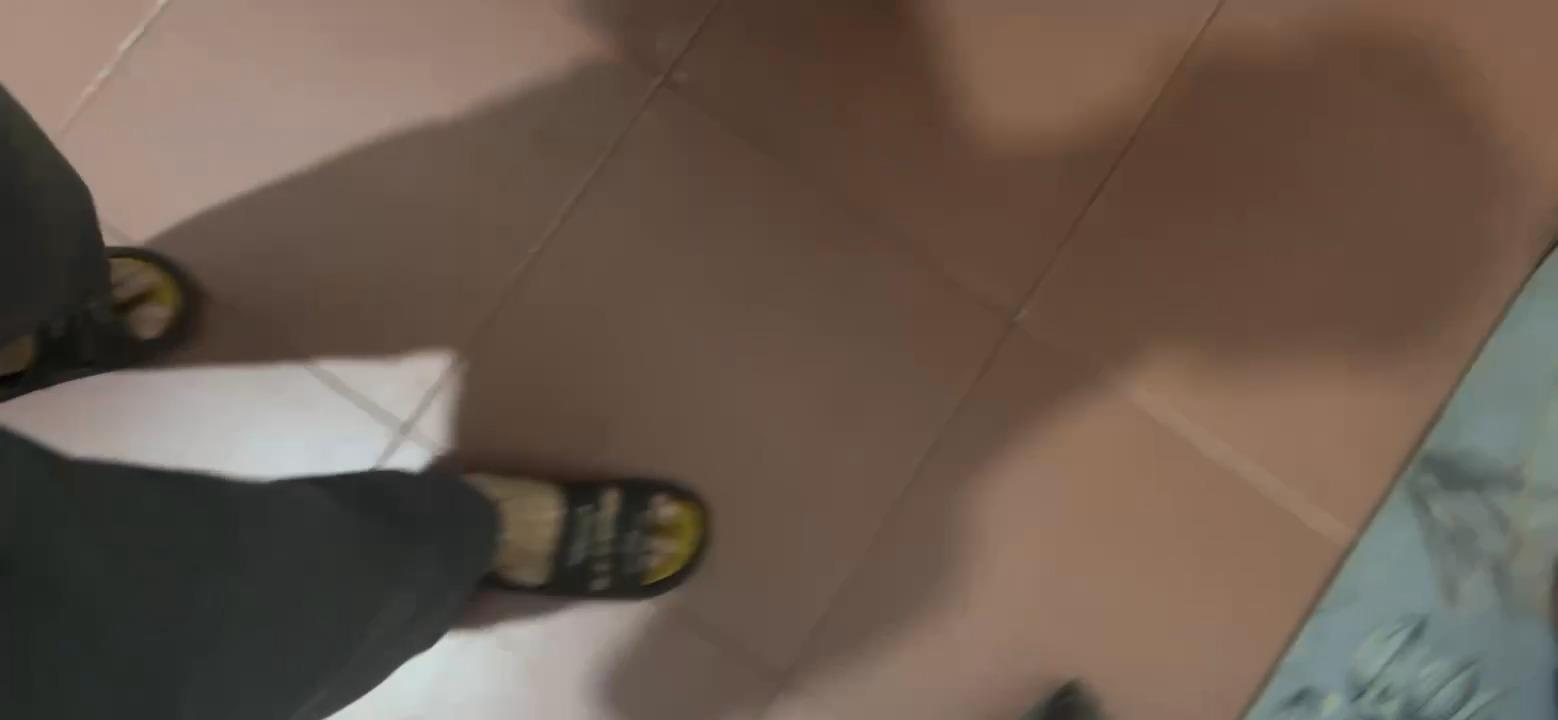no-boot: (433, 445, 713, 610)
